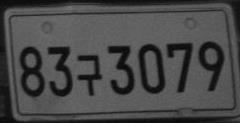0: (137, 43, 165, 94)
3: (107, 44, 135, 95), (47, 45, 73, 97)
7: (166, 42, 193, 93)
8: (18, 45, 45, 97)
9: (197, 40, 225, 92)
구: (76, 53, 102, 95)
